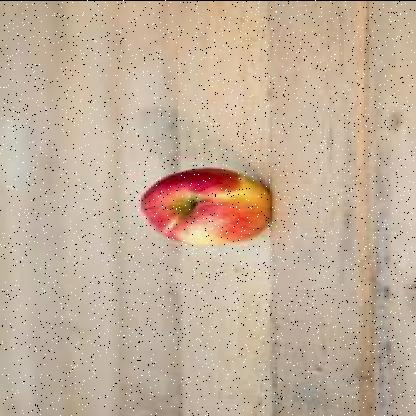apple: (141, 164, 270, 252)
